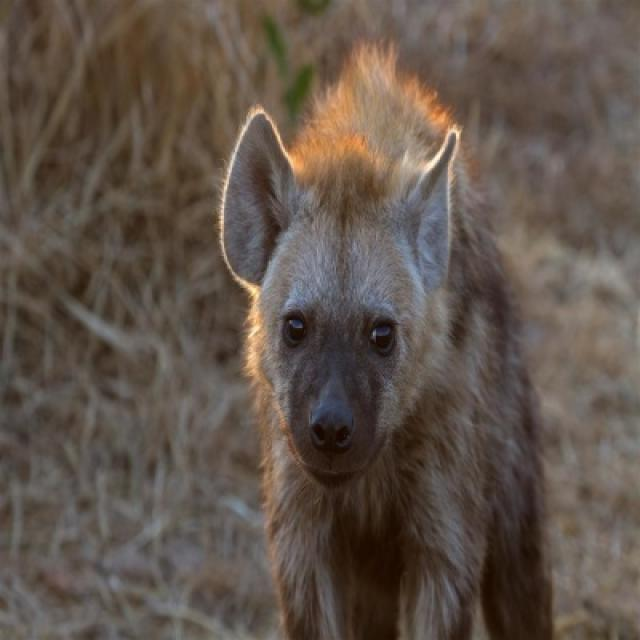hyena: (218, 38, 555, 638)
